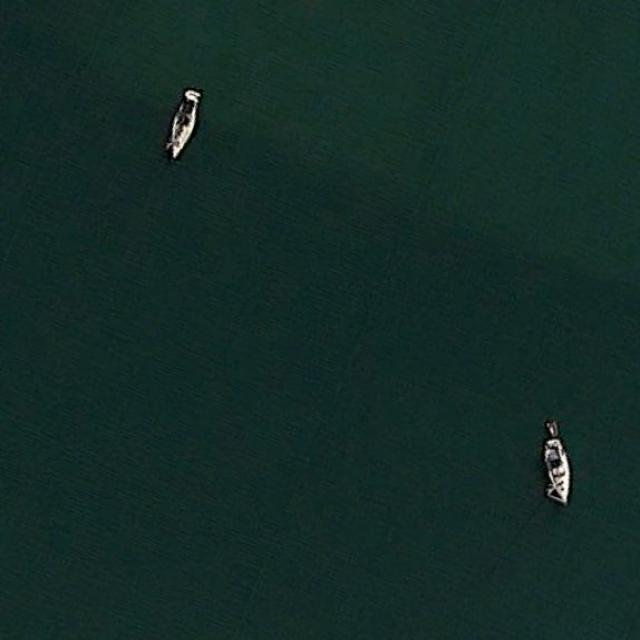ship: (168, 88, 202, 160), (541, 432, 570, 504)
